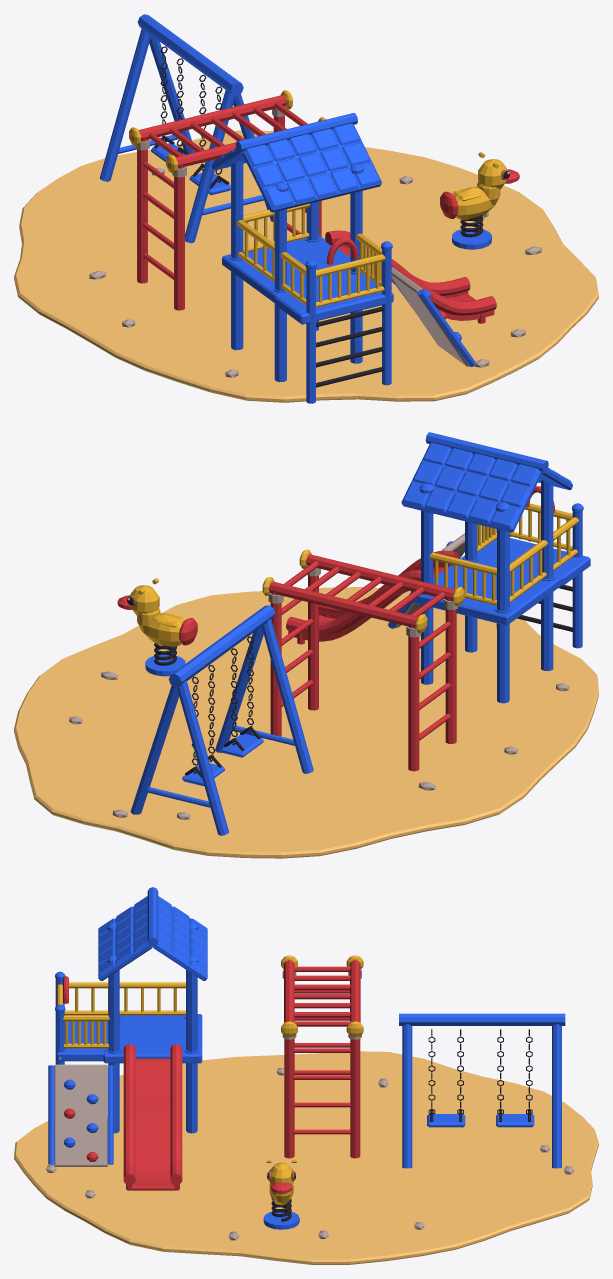
The picture shows the model from 3 angles, top to bottom: view 1: azimuth 30°, elevation 25°; view 2: azimuth 150°, elevation 25°; view 3: azimuth 270°, elevation 25°; orthographic projection. The views are drawn at different scales.
Parts seen in each view (by area): view 1: root_pal_windowGlow, root_pal_policeBlue, root_pal_survivorRed, root_pal_schoolBusYellow, root_pal_sidewalk, springDuck_pal_schoolBusYellow, root_pal_uiDark, swing2_pal_uiDark, springDuck_pal_survivorRed; view 2: root_pal_windowGlow, root_pal_policeBlue, root_pal_survivorRed, root_pal_schoolBusYellow, springDuck_pal_schoolBusYellow, root_pal_sidewalk, swing1_pal_uiDark, root_pal_uiDark, swing2_pal_uiDark; view 3: root_pal_windowGlow, root_pal_policeBlue, root_pal_survivorRed, root_pal_sidewalk, root_pal_schoolBusYellow, springDuck_pal_schoolBusYellow, swing1_pal_uiDark, swing2_pal_uiDark, swing1_pal_policeBlue.
Boxes of the visible parts, box(x1,y1,x2,y2) form: root_pal_windowGlow: box(14, 130, 598, 402); root_pal_policeBlue: box(100, 14, 491, 403); root_pal_survivorRed: box(137, 95, 496, 323); root_pal_schoolBusYellow: box(129, 90, 385, 307); root_pal_sidewalk: box(89, 106, 542, 377); springDuck_pal_schoolBusYellow: box(453, 152, 507, 219); root_pal_uiDark: box(316, 215, 483, 387); swing2_pal_uiDark: box(154, 46, 189, 154); springDuck_pal_survivorRed: box(440, 169, 519, 218); root_pal_windowGlow: box(14, 587, 598, 858); root_pal_policeBlue: box(130, 432, 590, 835); root_pal_survivorRed: box(268, 486, 555, 771); root_pal_schoolBusYellow: box(262, 503, 578, 633); springDuck_pal_schoolBusYellow: box(130, 578, 184, 646); root_pal_sidewalk: box(69, 533, 569, 819); swing1_pal_uiDark: box(223, 636, 260, 751); root_pal_uiDark: box(154, 585, 572, 665); swing2_pal_uiDark: box(185, 665, 221, 778); root_pal_windowGlow: box(14, 1051, 598, 1264); root_pal_policeBlue: box(48, 887, 565, 1229); root_pal_survivorRed: box(63, 960, 360, 1190); root_pal_sidewalk: box(46, 969, 573, 1240); root_pal_schoolBusYellow: box(57, 955, 363, 1048); springDuck_pal_schoolBusYellow: box(266, 1159, 296, 1205); swing1_pal_uiDark: box(428, 1029, 463, 1121); swing2_pal_uiDark: box(497, 1029, 532, 1121); swing1_pal_policeBlue: box(427, 1114, 465, 1127).
Bounding box in the file's own units: 8.3 × 3.83 × 9.77.
